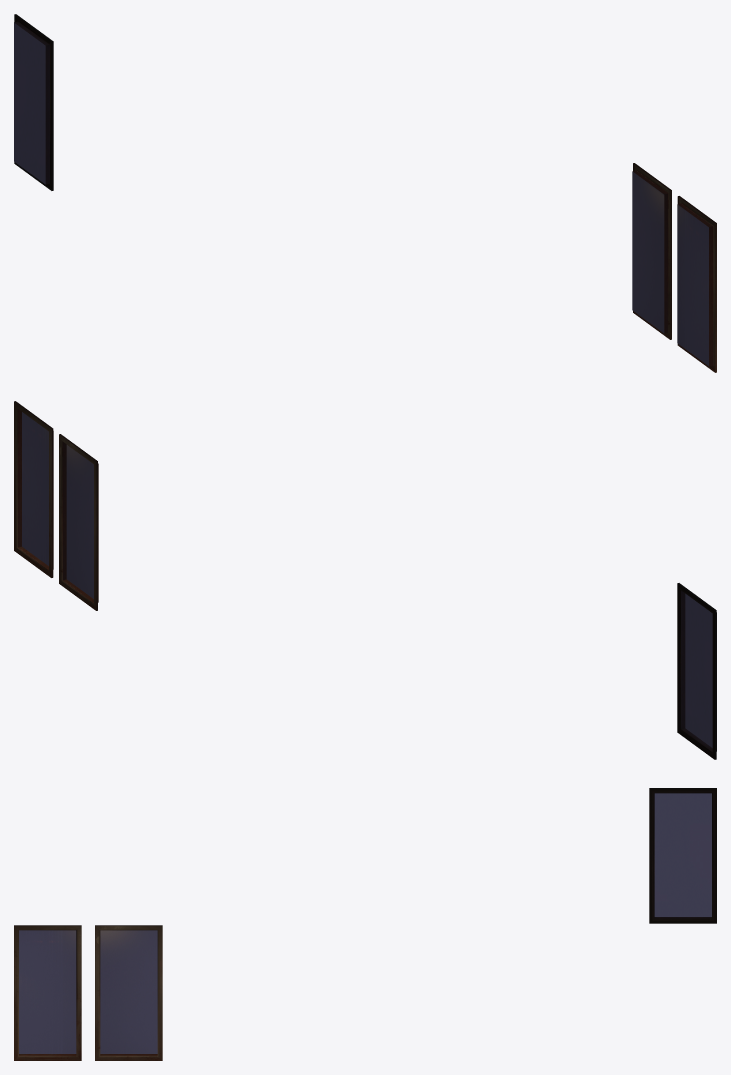
Rendered from frontwindows.obj.
3 views of the same model, one above another, from view 1: azimuth 30°, elevation 25°; view 2: azimuth 210°, elevation 25°; view 3: azimuth 270°, elevation 25° (orthographic). The views are drawn at different scales.
Parts seen in each view (by area): view 1: frontwindows1 ExportGeo; view 2: frontwindows1 ExportGeo; view 3: frontwindows1 ExportGeo.
Part boxes in pixels (x1,y1,x2,y2): frontwindows1 ExportGeo: [14, 14, 716, 372]; frontwindows1 ExportGeo: [14, 401, 716, 759]; frontwindows1 ExportGeo: [14, 788, 716, 1060].
Size of the model in its own units: 5.16 by 2.33 by 10.99.
1 material, 1 textured.
